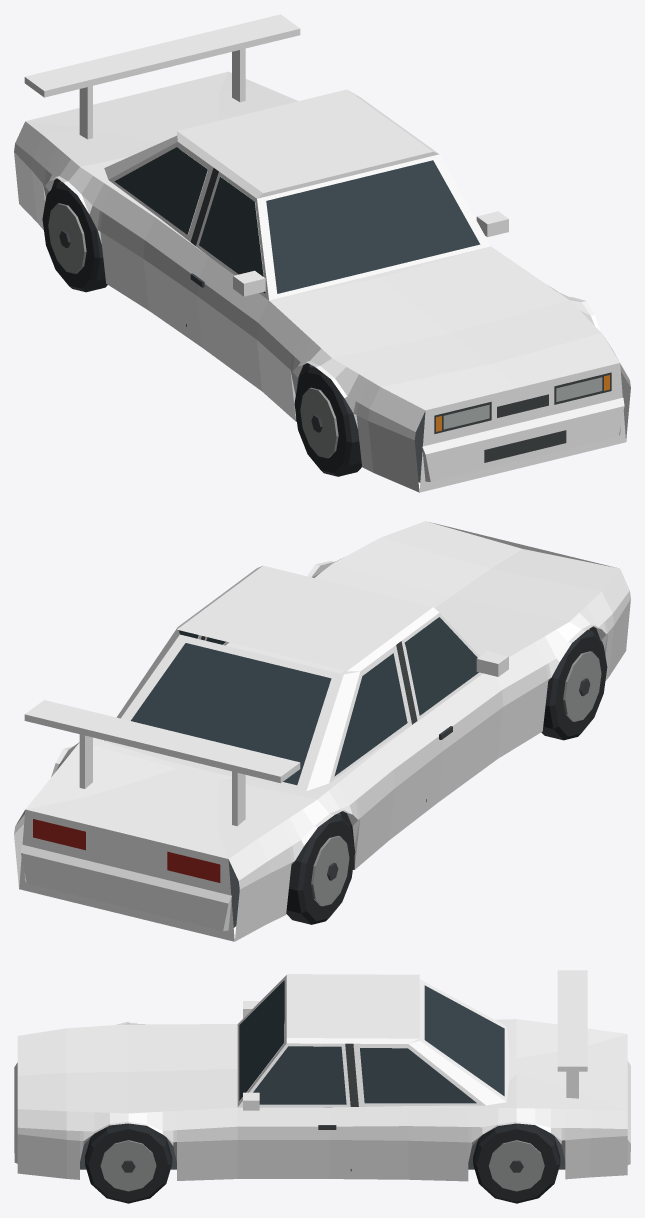
Rendered from whitlock_shamrock_corrida.glb.
3 renders of one model, top to bottom at view 1: azimuth 30°, elevation 25°; view 2: azimuth 150°, elevation 25°; view 3: azimuth 270°, elevation 25°, orthographic. The views are drawn at different scales.
Parts seen in each view (by area): view 1: whitlock_shamrock_corrida; view 2: whitlock_shamrock_corrida; view 3: whitlock_shamrock_corrida.
Part boxes in pixels (left/top/right/bottom): whitlock_shamrock_corrida: left=14, top=14, right=630, bottom=492; whitlock_shamrock_corrida: left=14, top=521, right=630, bottom=941; whitlock_shamrock_corrida: left=14, top=970, right=630, bottom=1203.
Bounding box in the file's own units: 1.75 × 1.2 × 4.48.
Materials: 8 (1 with a texture image).
